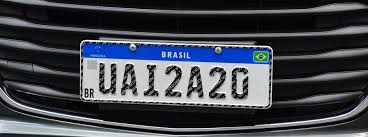car_plate: (81, 37, 275, 104)
